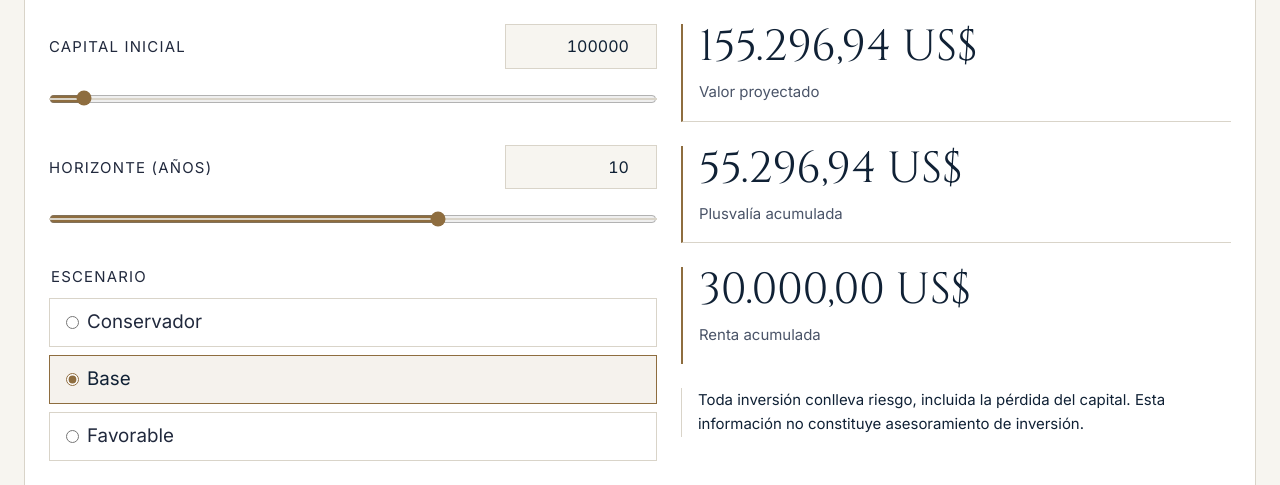
Simulator › el escenario conservador recalcula cifras, supuestos y tabla
The image size is (1280, 485).
(page scrolled)
What coordinates should you click on to do the following:
click the radio button labelled "Conservador"
I would click on:
 (72, 322)
Its box is [66, 316, 79, 329].
(page scrolled)
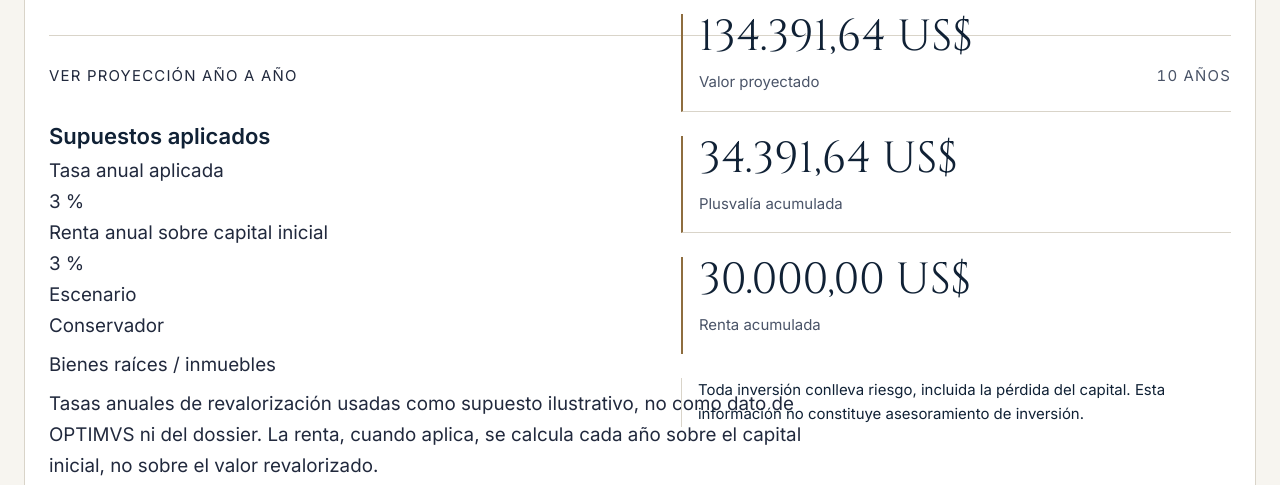
Expected: the element that starts with "Supuestos aplicados" shows "Conservador", [49, 314, 164, 337]
